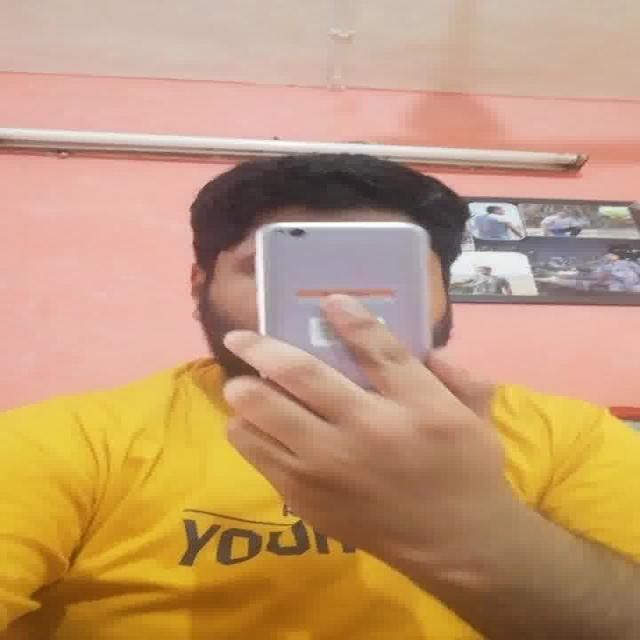Phone: (255, 218, 432, 362)
